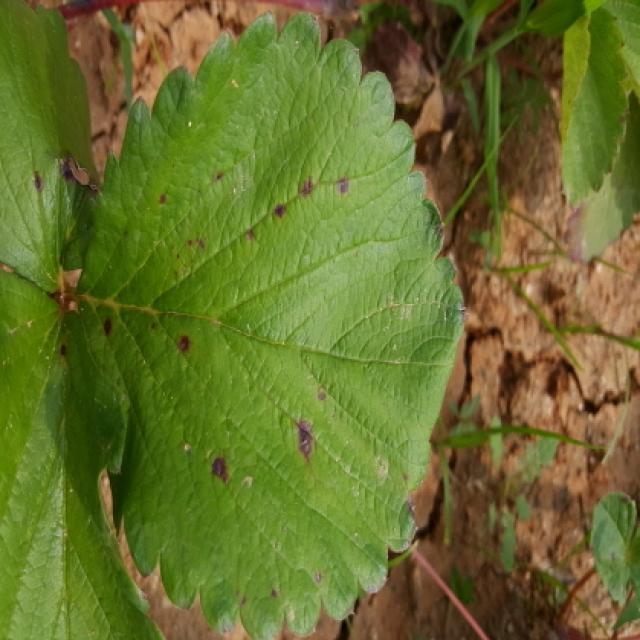Leaf Spot: (62, 10, 470, 638), (2, 272, 163, 638), (2, 0, 103, 294)
